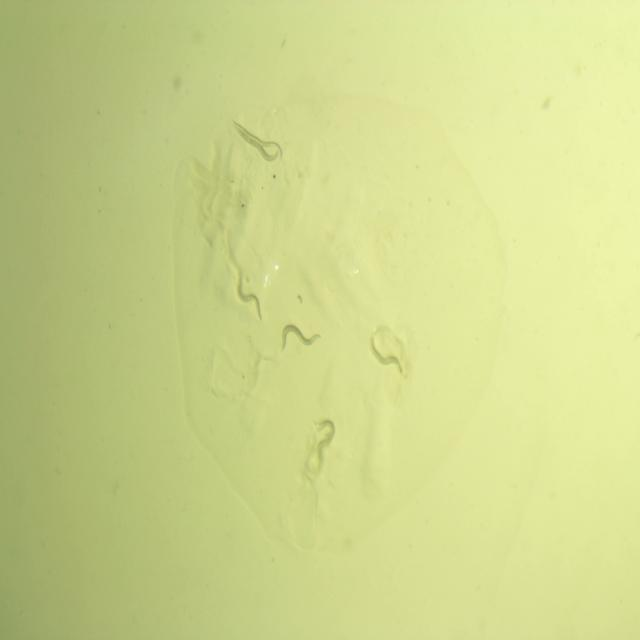worm: (228, 119, 280, 164), (230, 119, 284, 162), (276, 318, 324, 359), (233, 267, 266, 324), (366, 329, 404, 378), (310, 414, 340, 463)
